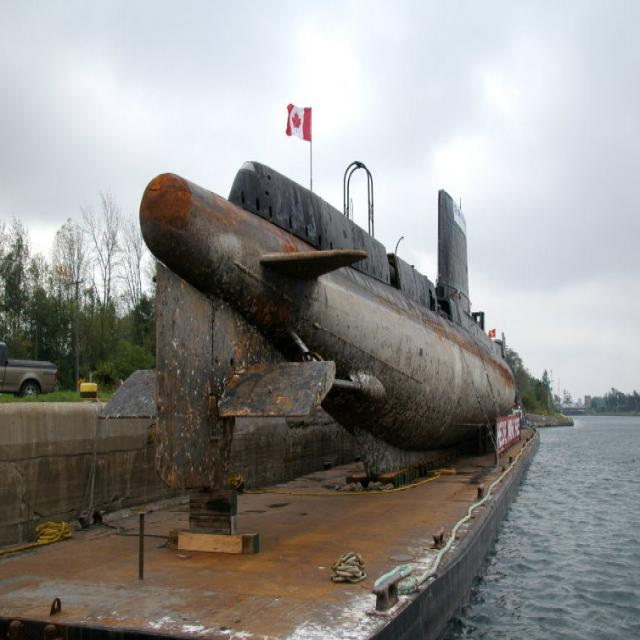submarine: (117, 155, 640, 505)
